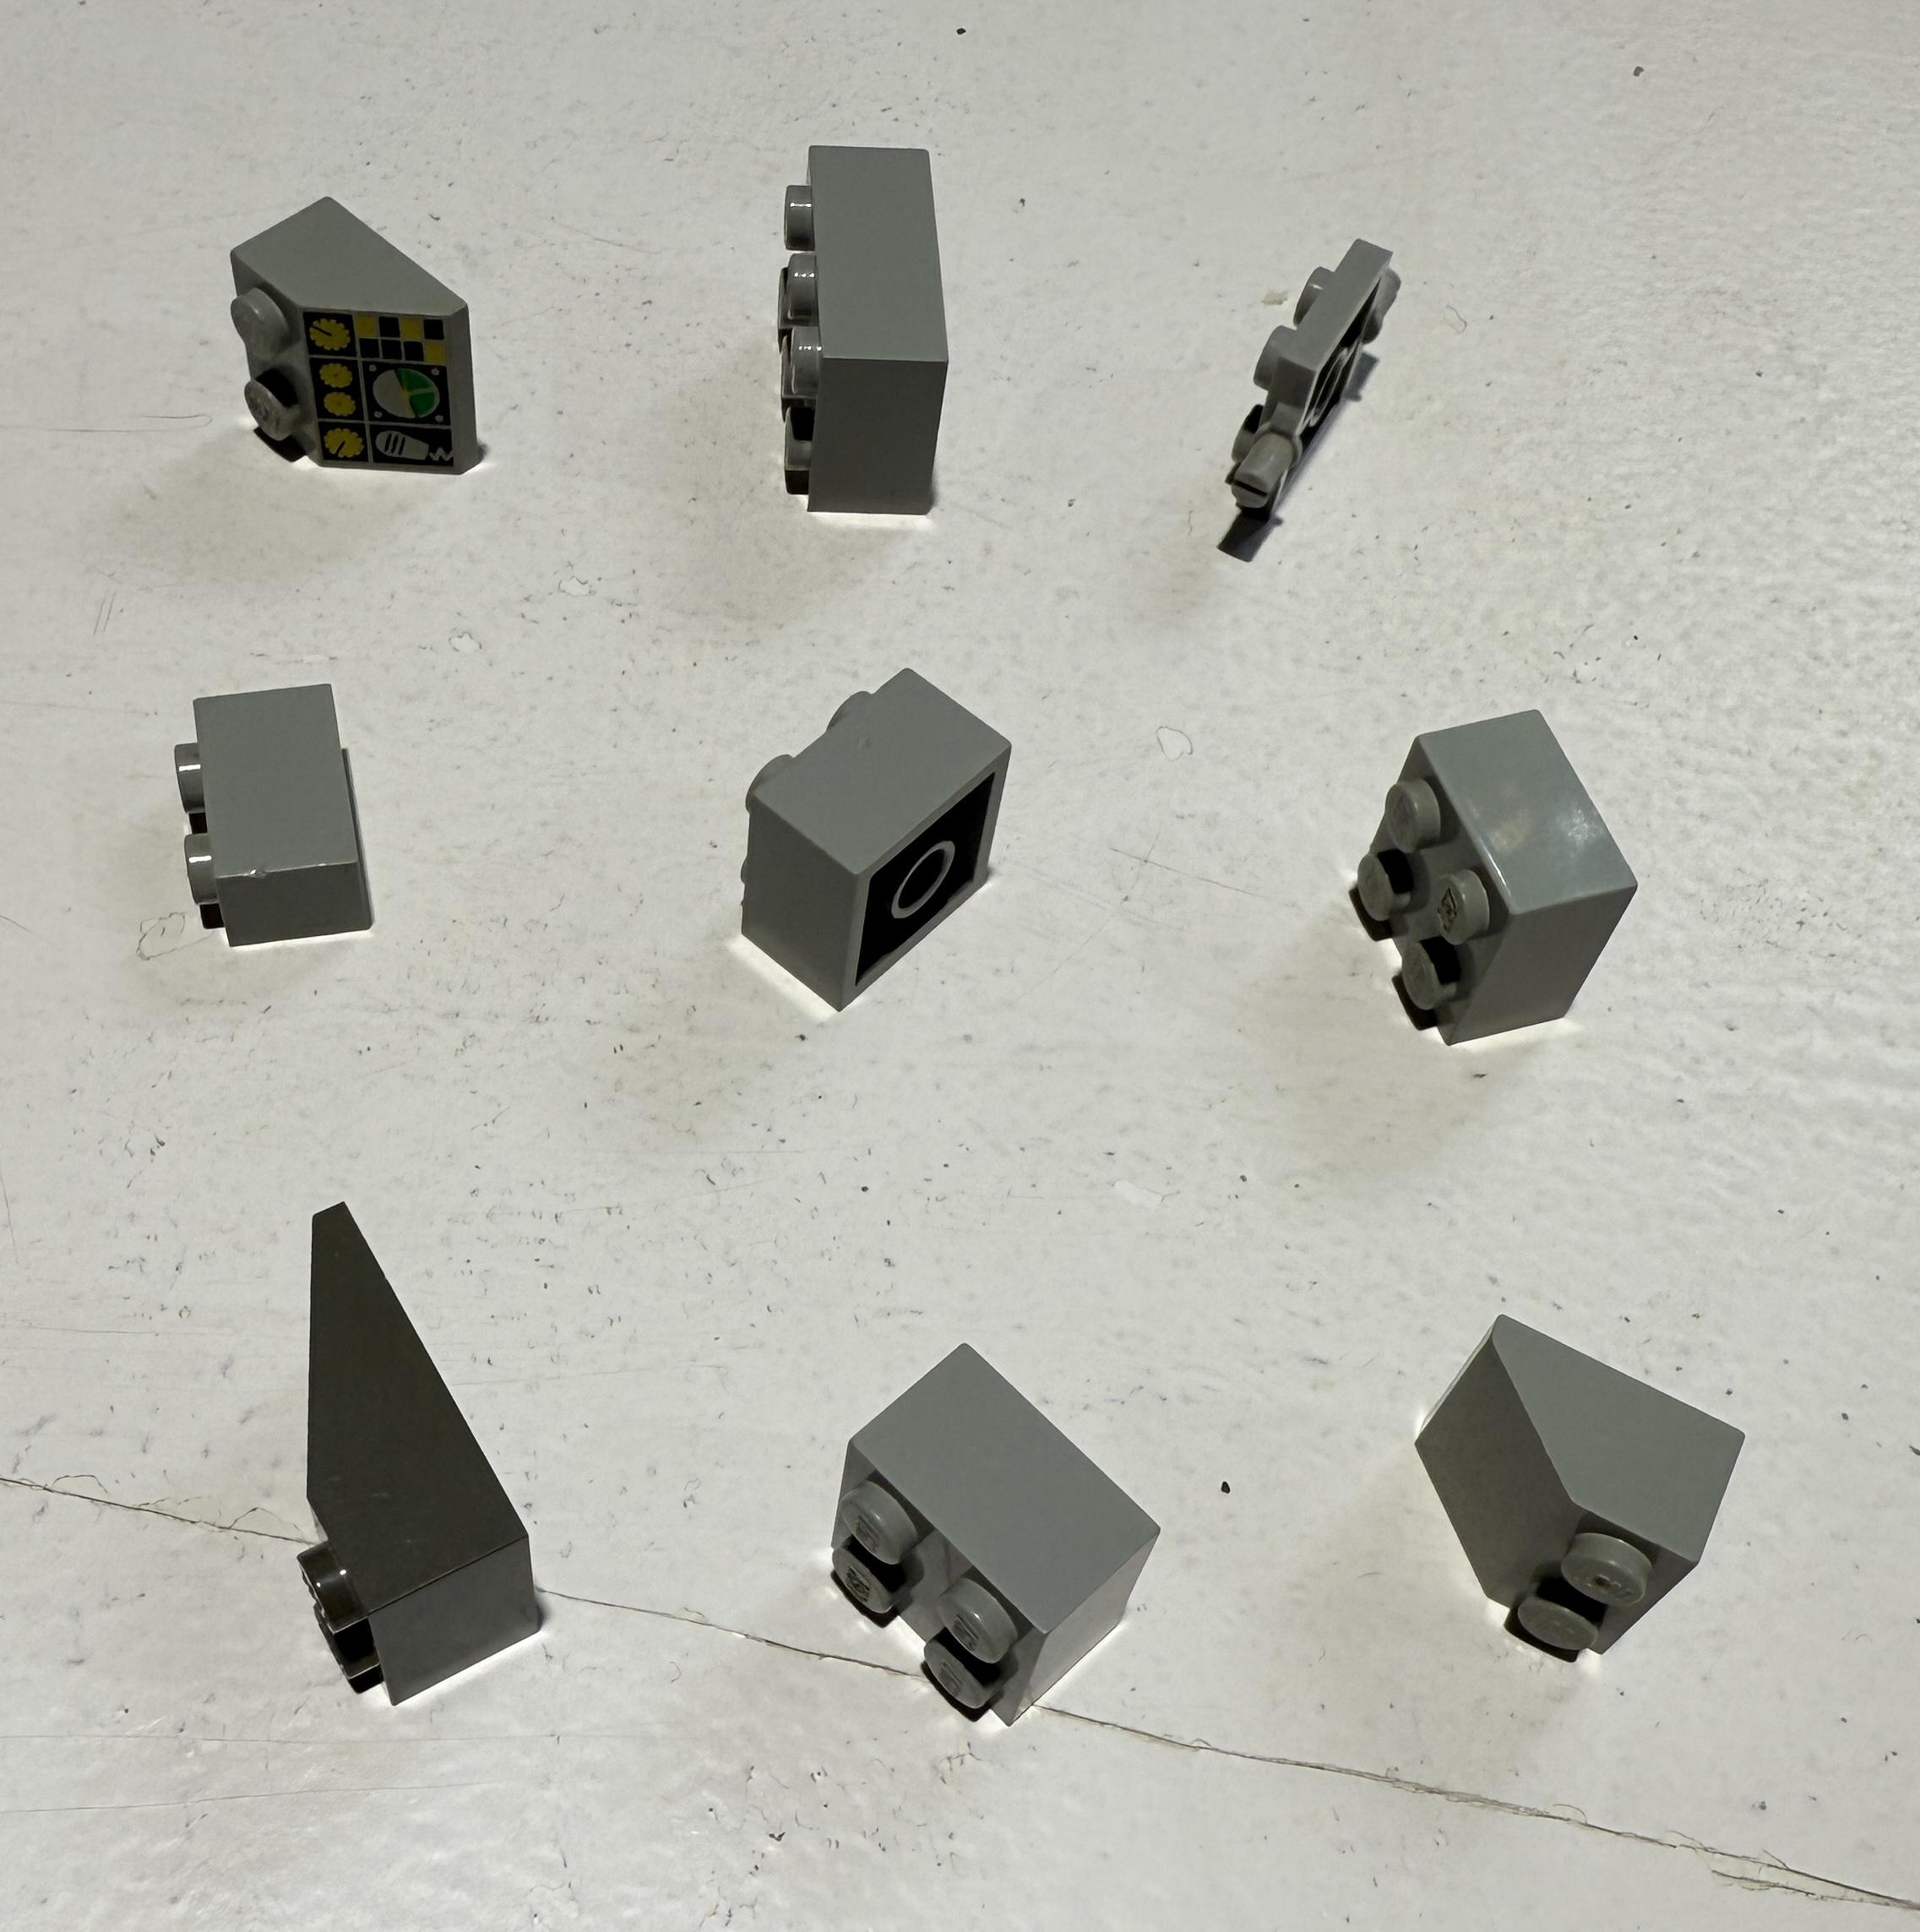Special_02: (1301, 1282, 1786, 1698), (202, 172, 527, 520)
brick_1x2: (164, 635, 441, 963)
brick_2x2: (768, 1275, 1201, 1763), (1268, 677, 1688, 1118), (679, 624, 1108, 1023), (716, 120, 1102, 559)
